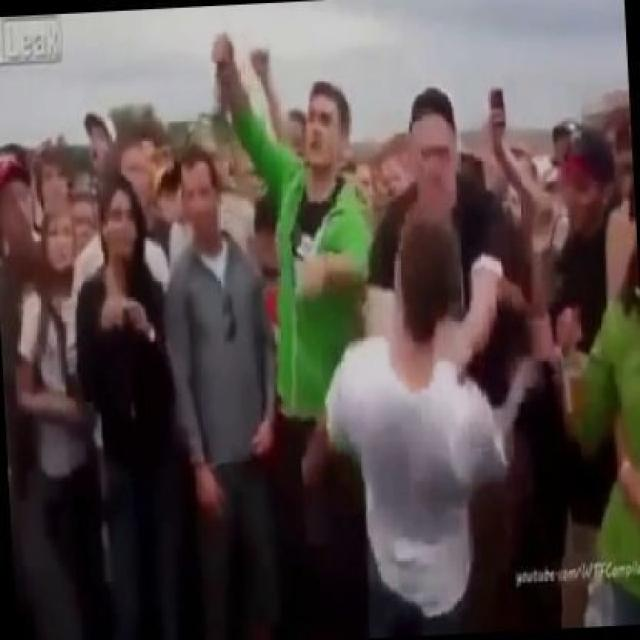fight: (304, 89, 518, 640)
non-fight: (208, 34, 371, 640), (165, 148, 282, 640), (74, 169, 195, 640), (18, 215, 98, 640)
